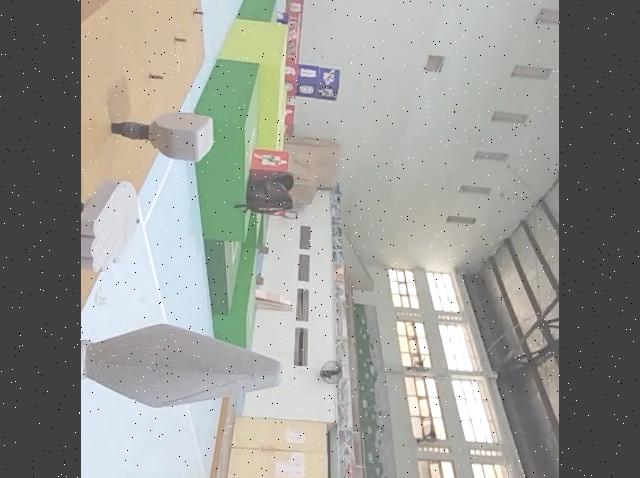Fist: (111, 109, 215, 166)
Hand: (81, 182, 143, 272)
Sph: (81, 317, 293, 405)
